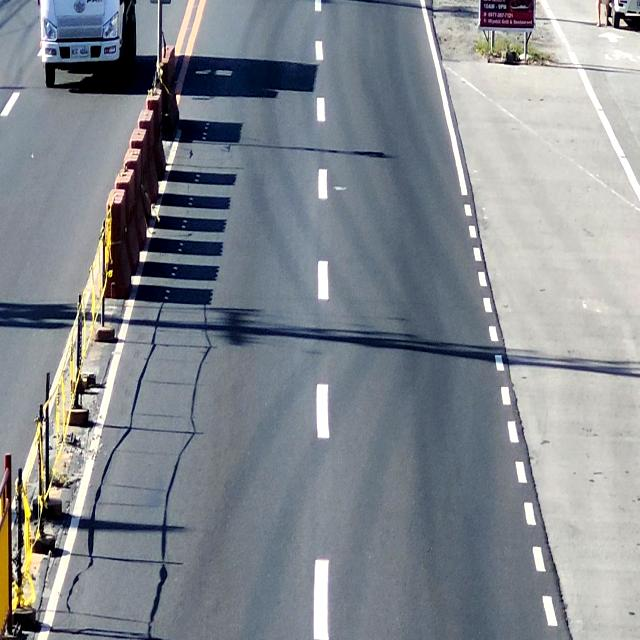License-Plate: (69, 42, 91, 60)
